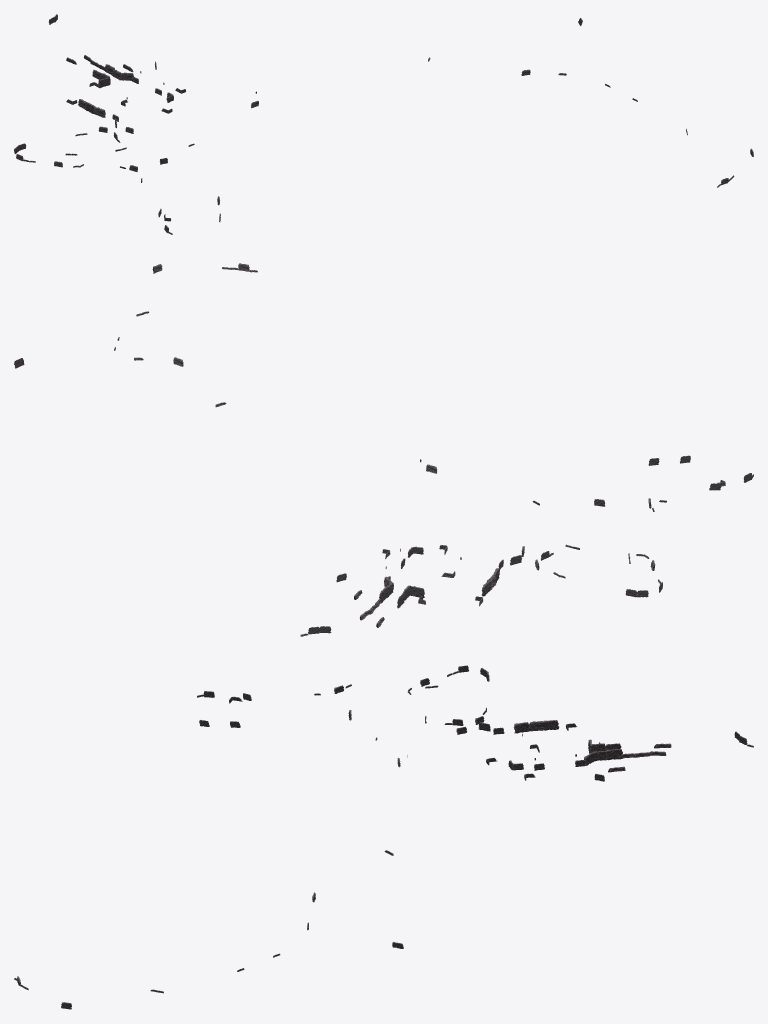
The model's file is RockStructureBlock.FBX.
3 views of the same model, one above another, from view 1: azimuth 30°, elevation 25°; view 2: azimuth 150°, elevation 25°; view 3: azimuth 270°, elevation 25° (orthographic). The views are drawn at different scales.
Parts seen in each view (by area): view 1: polySurface206; view 2: polySurface206; view 3: polySurface206.
Part boxes in pixels (bbox=[...]): polySurface206: bbox=[14, 14, 753, 234]; polySurface206: bbox=[14, 263, 753, 636]; polySurface206: bbox=[14, 665, 753, 1009].
Size of the model in its own units: 1062 by 82.89 by 1016.
